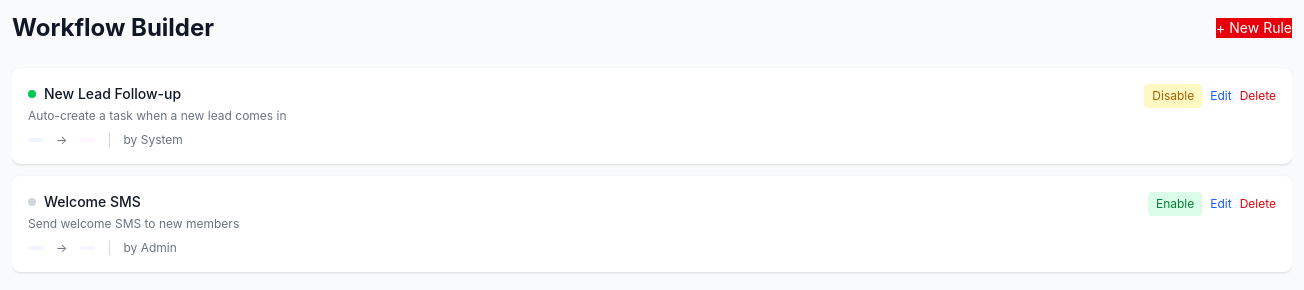
WorkflowBuilder Page › deletes rule after confirmation
The image size is (1304, 290).
Expected: the heading "New Lead Follow-up" is shown, [44,84,181,104]
Click the button "Delete" in the row of "New Lead Follow-up": (1258, 96) [1240,88,1276,104]
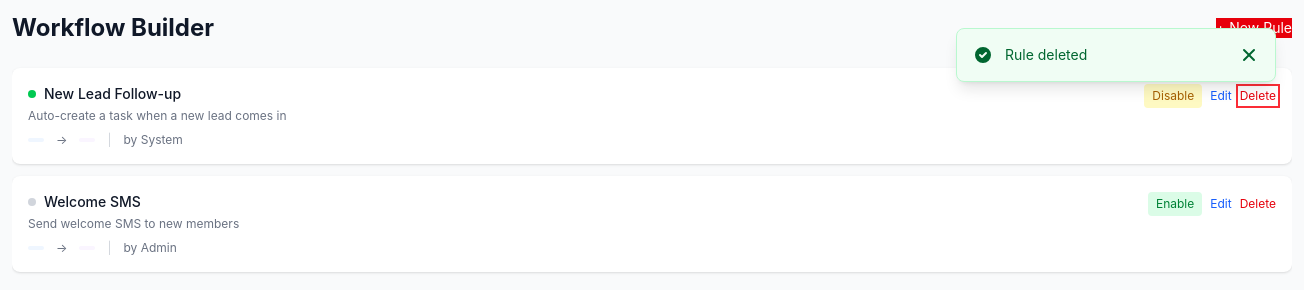
Now the text "Rule deleted" is shown, box [1005,46,1087,63]
